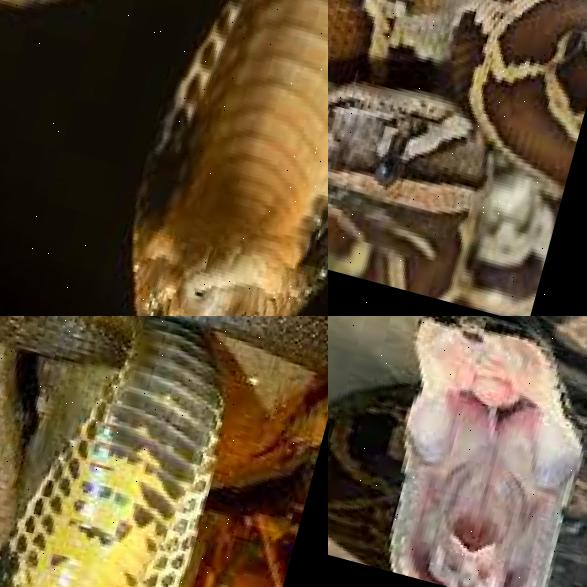1: (0, 0, 328, 316)
5: (0, 316, 328, 587)
snake: (328, 0, 587, 316), (328, 316, 587, 587)
